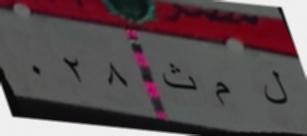0: (27, 60, 50, 85)
2: (60, 52, 87, 87)
8: (101, 58, 130, 92)
laam: (260, 66, 290, 110)
meem: (204, 75, 235, 113)
thaa: (159, 58, 199, 93)
